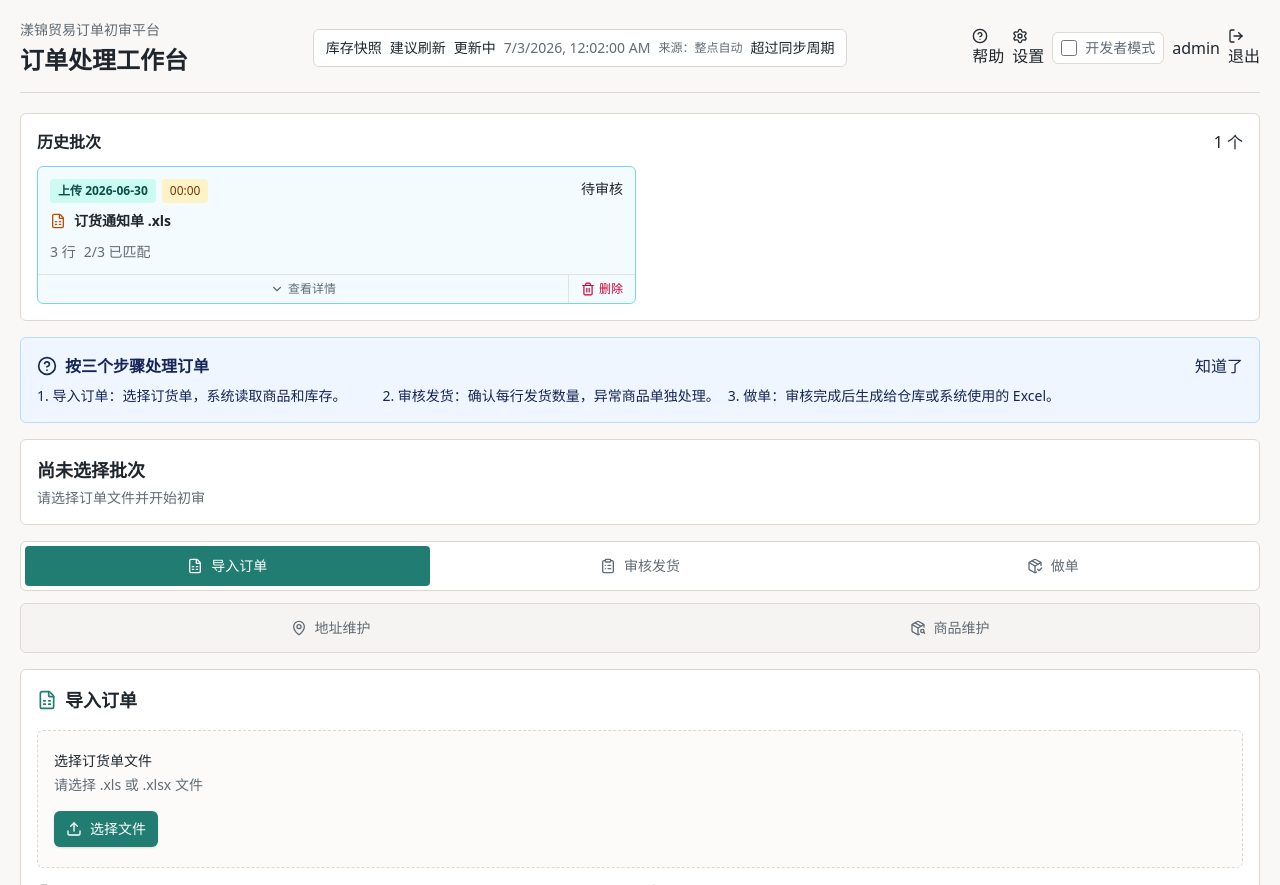
App › restores a running combined sync after refresh and polls its progress
Check: the text "更新中" is shown, box [454, 38, 496, 58]
What coordinates should you click on to do the following:
click the button "设置"
I would click on:
 (1028, 48)
Its box is [1012, 28, 1044, 68].
Wait 2000 ms
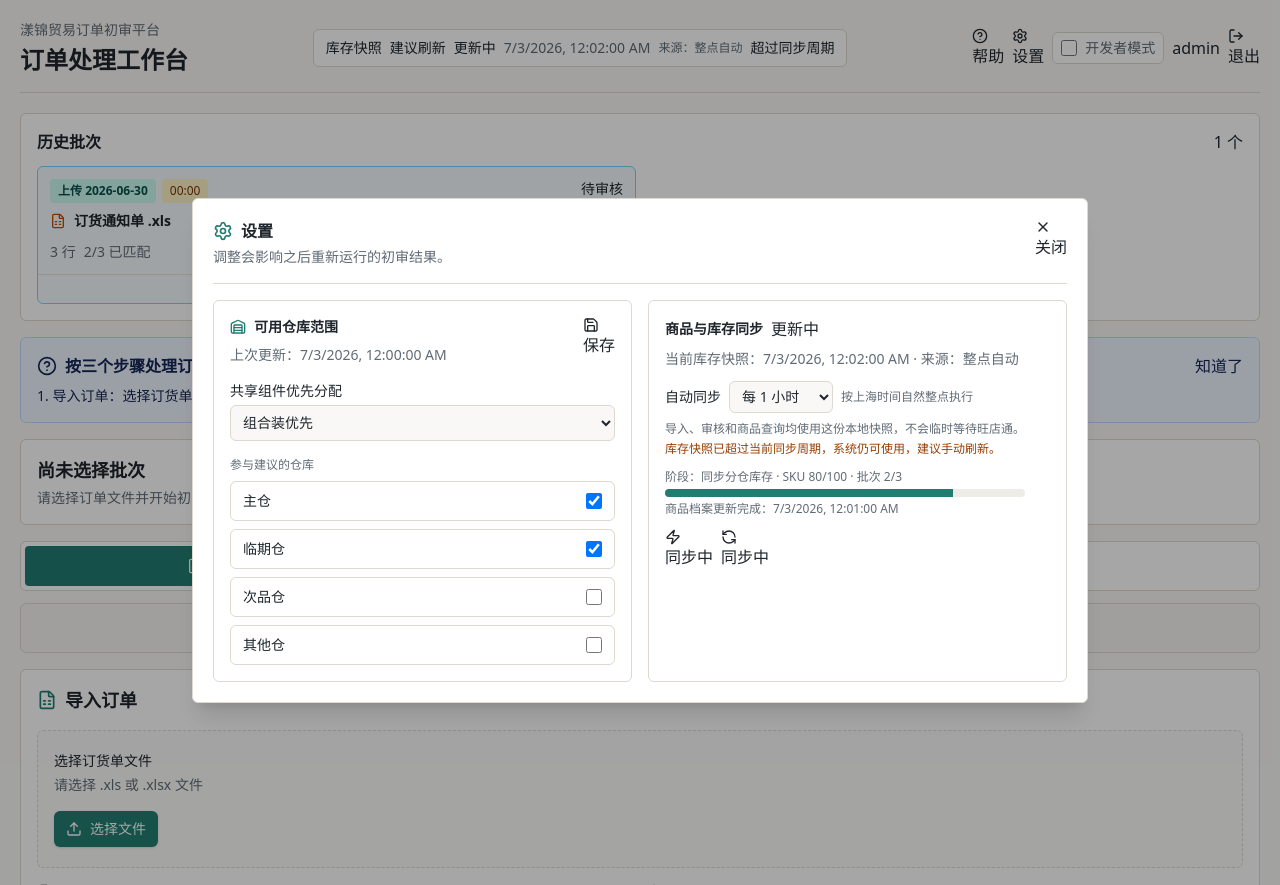
Check: the 2nd button "同步中" is disabled, box [721, 528, 769, 568]
Check: the text "阶段：同步分仓库存 · SKU 80/100 · 批次 2/3" is shown, box [665, 468, 902, 484]
Check: the element named "同步进度 80%" is shown, box [665, 488, 1025, 496]
